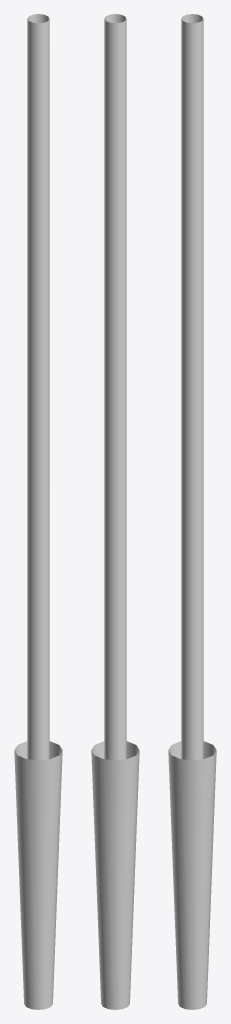
The model's file is Beacon.fbx.
3 views of the same model, side by side, from view 1: azimuth 30°, elevation 25°; view 2: azimuth 150°, elevation 25°; view 3: azimuth 330°, elevation 25° (orthographic).
Parts seen in each view (by area): view 1: Cylinder; view 2: Cylinder; view 3: Cylinder.
Boxes of the visible parts, <box> form: Cylinder: <box>14,14,62,1009</box>; Cylinder: <box>91,14,139,1009</box>; Cylinder: <box>168,14,216,1009</box>.
Bounding box in the file's own units: 436 × 9783 × 436.
